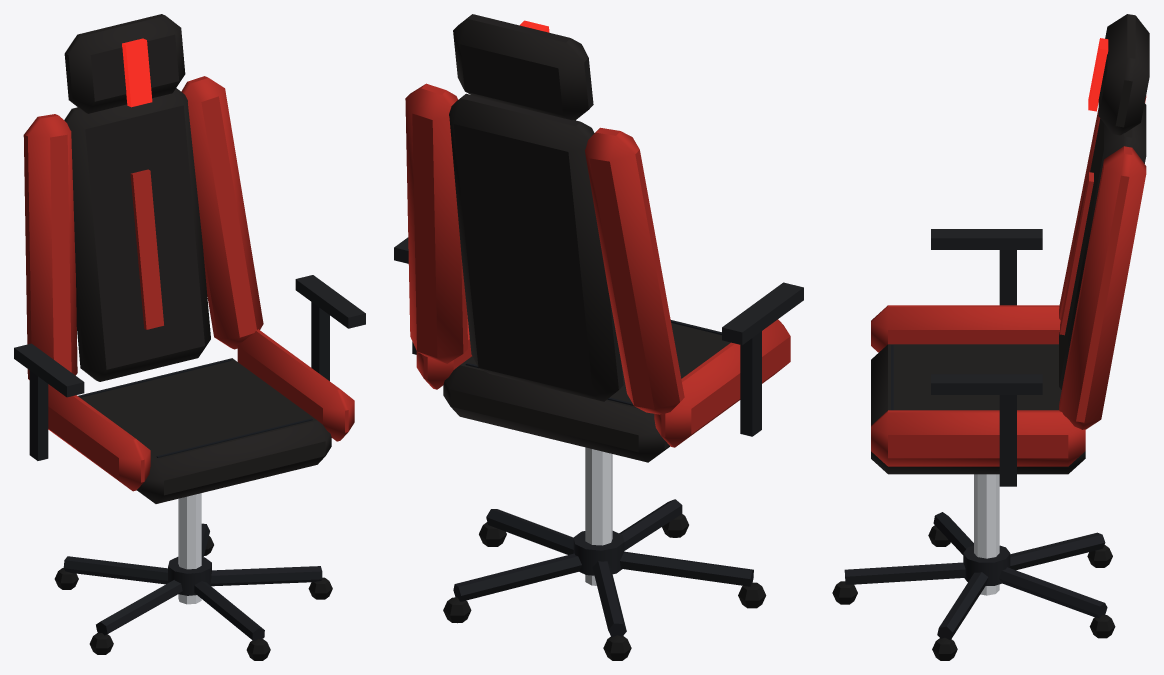
The model's file is chair_gaming_chair.glb.
The picture shows the model from 3 angles, left to right: view 1: azimuth 30°, elevation 25°; view 2: azimuth 150°, elevation 25°; view 3: azimuth 270°, elevation 25°; orthographic projection. The views are drawn at different scales.
Visible parts, largest first — view 1: chair_gaming_chair; view 2: chair_gaming_chair; view 3: chair_gaming_chair.
Boxes of the visible parts, x1=… form: chair_gaming_chair: x1=14, y1=14, x2=365, y2=660; chair_gaming_chair: x1=394, y1=14, x2=803, y2=660; chair_gaming_chair: x1=832, y1=14, x2=1149, y2=660.
Bounding box in the file's own units: 0.85 × 1.46 × 0.7394.
